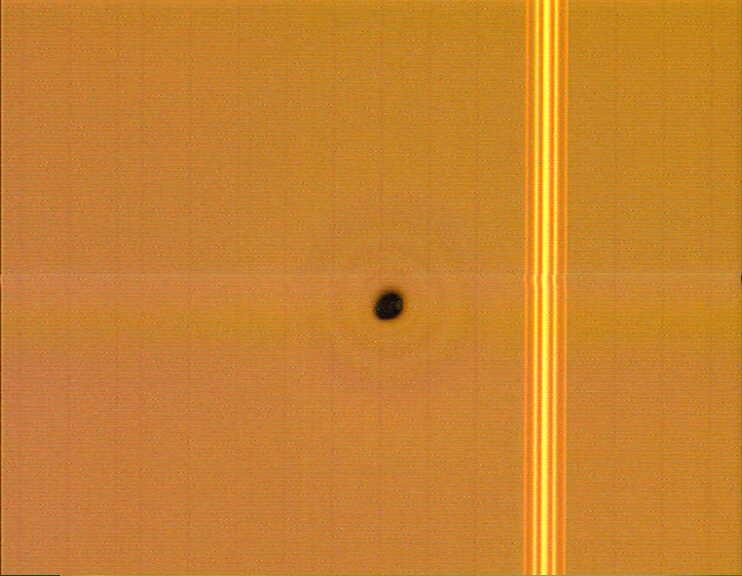PIQ PARTICLE: (368, 285, 412, 329)
